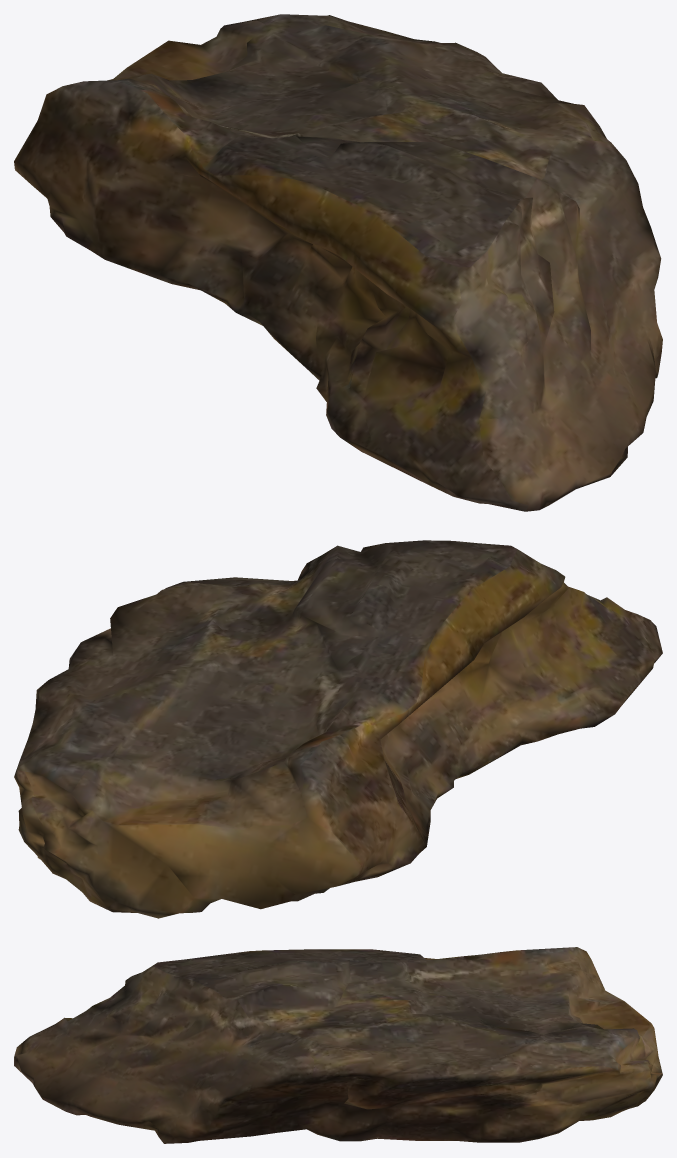
The model's file is rock-b.glb.
3 views of the same model, one above another, from view 1: azimuth 30°, elevation 25°; view 2: azimuth 150°, elevation 25°; view 3: azimuth 270°, elevation 25° (orthographic). The views are drawn at different scales.
Visible parts, largest first — view 1: rock_09_LOD0; view 2: rock_09_LOD0; view 3: rock_09_LOD0.
Part boxes in pixels (x1,y1,x2,y2): rock_09_LOD0: [14, 14, 662, 511]; rock_09_LOD0: [14, 540, 662, 918]; rock_09_LOD0: [14, 947, 662, 1143].
Bounding box in the file's own units: 0.0739 × 0.0326 × 0.1446.
Materials: 1 (1 with a texture image).
